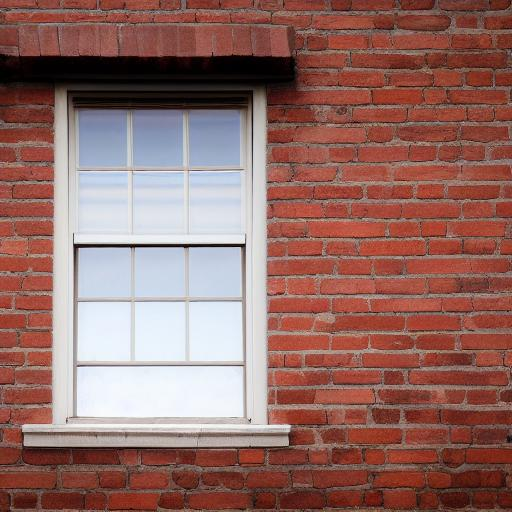Window: (4, 22, 297, 447)
